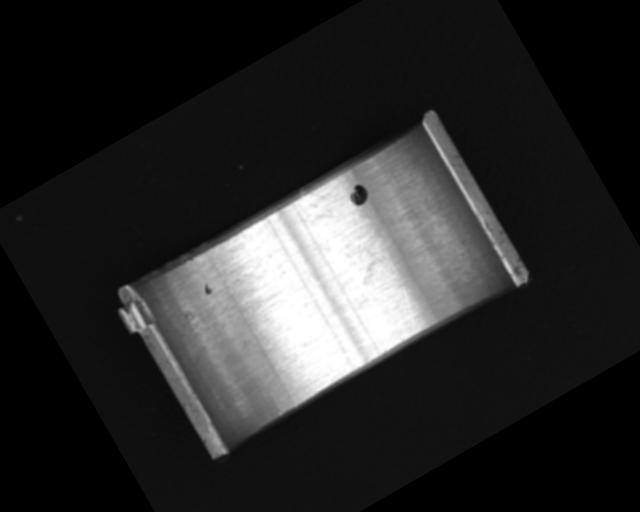blot: (341, 225, 406, 292), (344, 180, 372, 209)
bruise: (200, 281, 215, 298)
nick: (392, 287, 425, 330)
